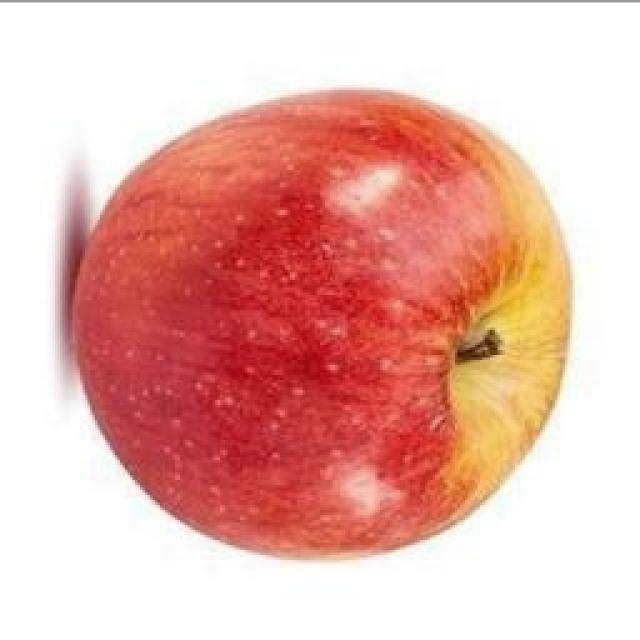Apple: (74, 90, 569, 553)
